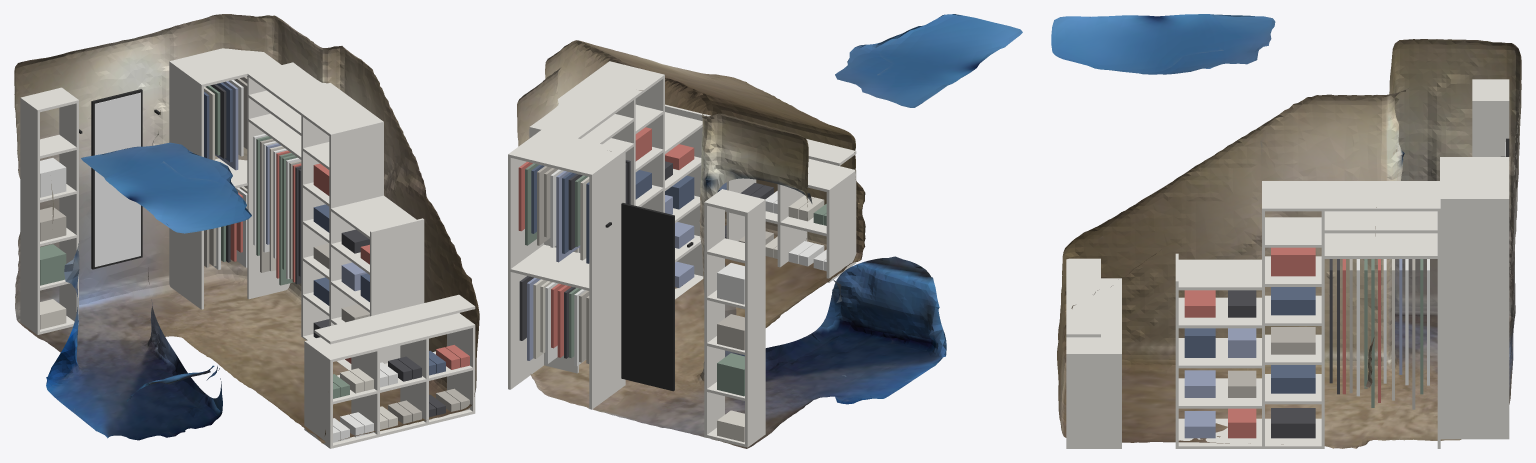
The picture shows the model from 3 angles, left to right: view 1: azimuth 30°, elevation 25°; view 2: azimuth 150°, elevation 25°; view 3: azimuth 270°, elevation 25°; orthographic projection. The views are drawn at different scales.
Visible parts, largest first — view 1: Scan_Closet2, Mirror_Glass, E2_Panel_S, N_Panel_W, E1_EndPanel, N2_Side_W, E_Top, E2_Panel_N, N2_Side_E, S_Top, S_WallShelf, E3_EndPanel (+35 smaller); view 2: Scan_Closet2, Mirror_Frame, N_Panel_W, N2_Side_W, E_Top, N_Panel_E, N2_Side_E, N_Top, S_Div_0, N_Shelf_Mid, E2_Panel_S, E1_EndPanel (+30 smaller); view 3: Scan_Closet2, N_Panel_E, E_Top, S_Div_3, E3_Shelf_170, N_Top, S_WallShelf, E1_Shelf_142, E3_Shelf_193, S_Top, N2_Side_E, E2_Shelf_180 (+38 smaller).
Boxes of the visible parts, box(x1,y1,x2,y2) form: Scan_Closet2: box(14, 14, 479, 443); Mirror_Glass: box(94, 92, 140, 266); E2_Panel_S: box(329, 121, 383, 326); N_Panel_W: box(169, 60, 203, 309); E1_EndPanel: box(370, 218, 424, 363); N2_Side_W: box(20, 97, 39, 334); E_Top: box(248, 63, 383, 137); E2_Panel_N: box(301, 100, 355, 337); N2_Side_E: box(59, 87, 78, 324); S_Top: box(304, 313, 474, 361); S_WallShelf: box(314, 294, 475, 344); E3_EndPanel: box(247, 62, 293, 299); Scan_Closet2: box(517, 14, 1022, 448); Mirror_Frame: box(621, 203, 674, 391); N_Panel_W: box(589, 149, 625, 409); N2_Side_W: box(745, 199, 765, 447); E_Top: box(531, 61, 663, 138); N_Panel_E: box(508, 130, 543, 389); N2_Side_E: box(704, 189, 724, 437); N_Top: box(508, 130, 625, 176); S_Div_0: box(826, 169, 856, 282); N_Shelf_Mid: box(510, 244, 589, 290); E2_Panel_S: box(608, 61, 664, 212); E1_EndPanel: box(665, 104, 706, 276); Scan_Closet2: box(1051, 14, 1521, 448); N_Panel_E: box(1440, 197, 1509, 439); E_Top: box(1262, 181, 1440, 211); S_Div_3: box(1066, 353, 1121, 448); E3_Shelf_170: box(1324, 233, 1437, 258); N_Top: box(1440, 157, 1509, 201); S_WallShelf: box(1066, 258, 1100, 337); E1_Shelf_142: box(1178, 259, 1261, 290); E3_Shelf_193: box(1324, 211, 1437, 233); S_Top: box(1066, 279, 1121, 356); N2_Side_E: box(1472, 99, 1509, 156); E2_Shelf_180: box(1265, 217, 1321, 247).
Bounding box in the file's own units: 3.17 × 2.6 × 3.81.
13 materials, 1 textured.
